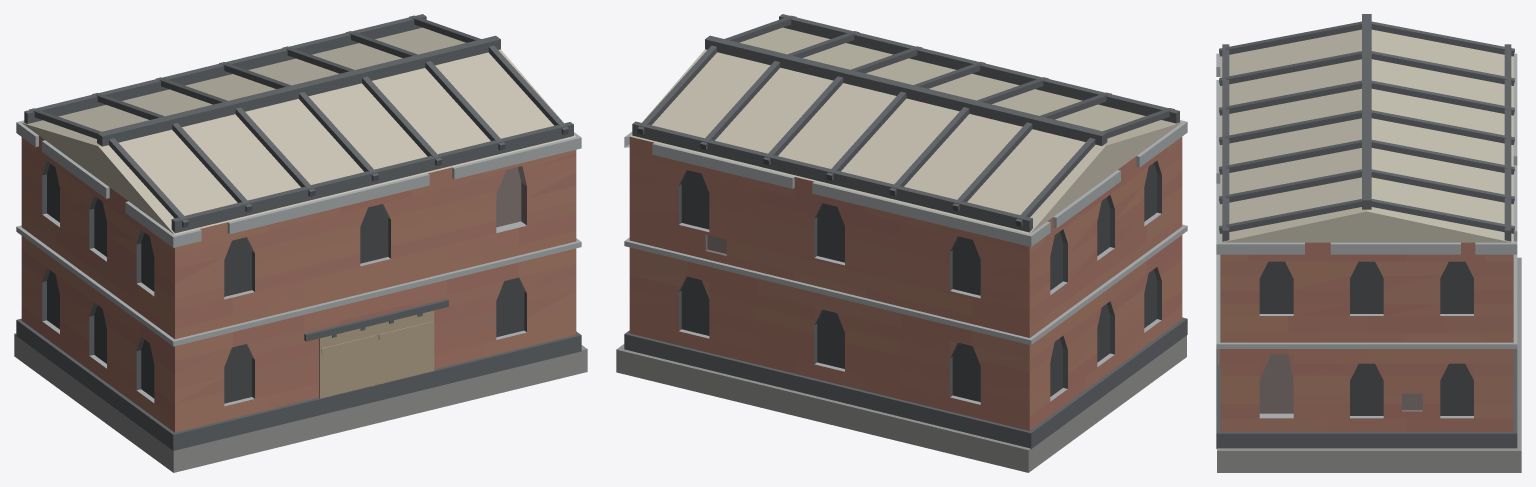
File: brick.glb
The picture shows the model from 3 angles, left to right: view 1: azimuth 30°, elevation 25°; view 2: azimuth 150°, elevation 25°; view 3: azimuth 270°, elevation 25°; orthographic projection. The views are drawn at different scales.
Parts seen in each view (by area): view 1: brick; view 2: brick; view 3: brick.
Part boxes in pixels (x1,y1,x2,y2): brick: (14, 14, 587, 472); brick: (616, 14, 1187, 472); brick: (1216, 14, 1521, 472).
Size of the model in its own units: 19.48 by 12.57 by 12.98.
